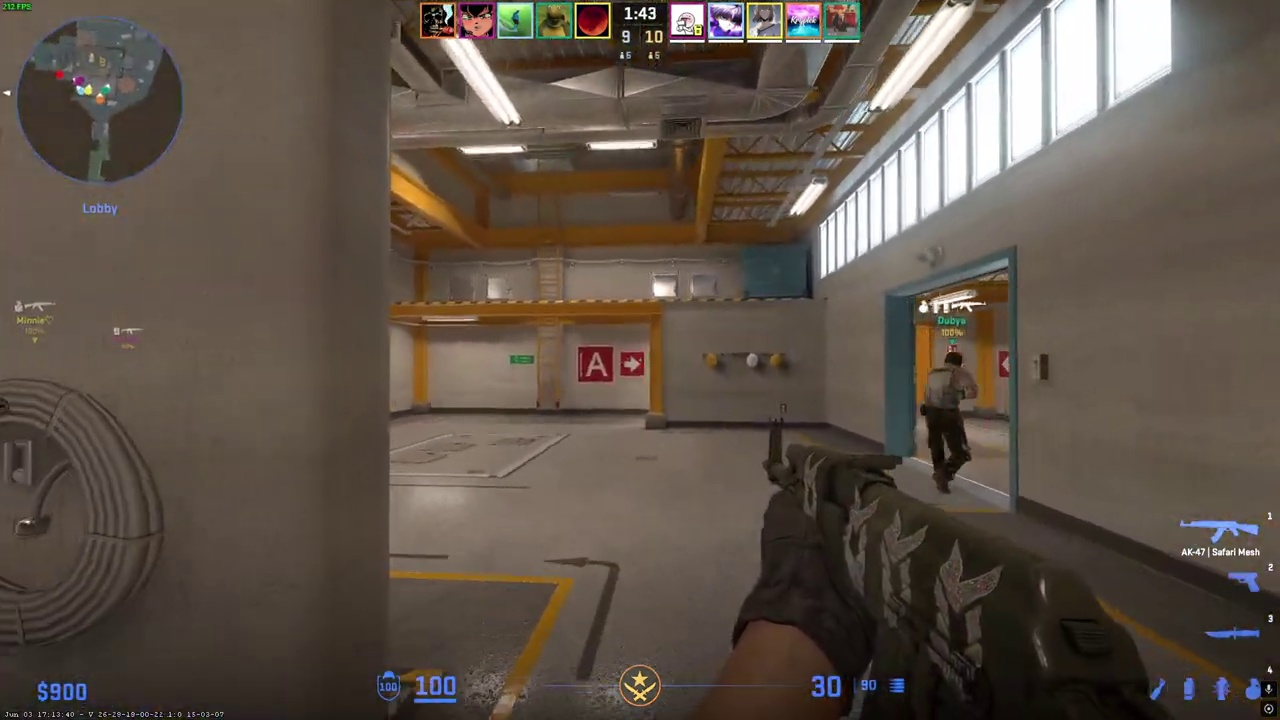Terrorist: (922, 351, 977, 492)
